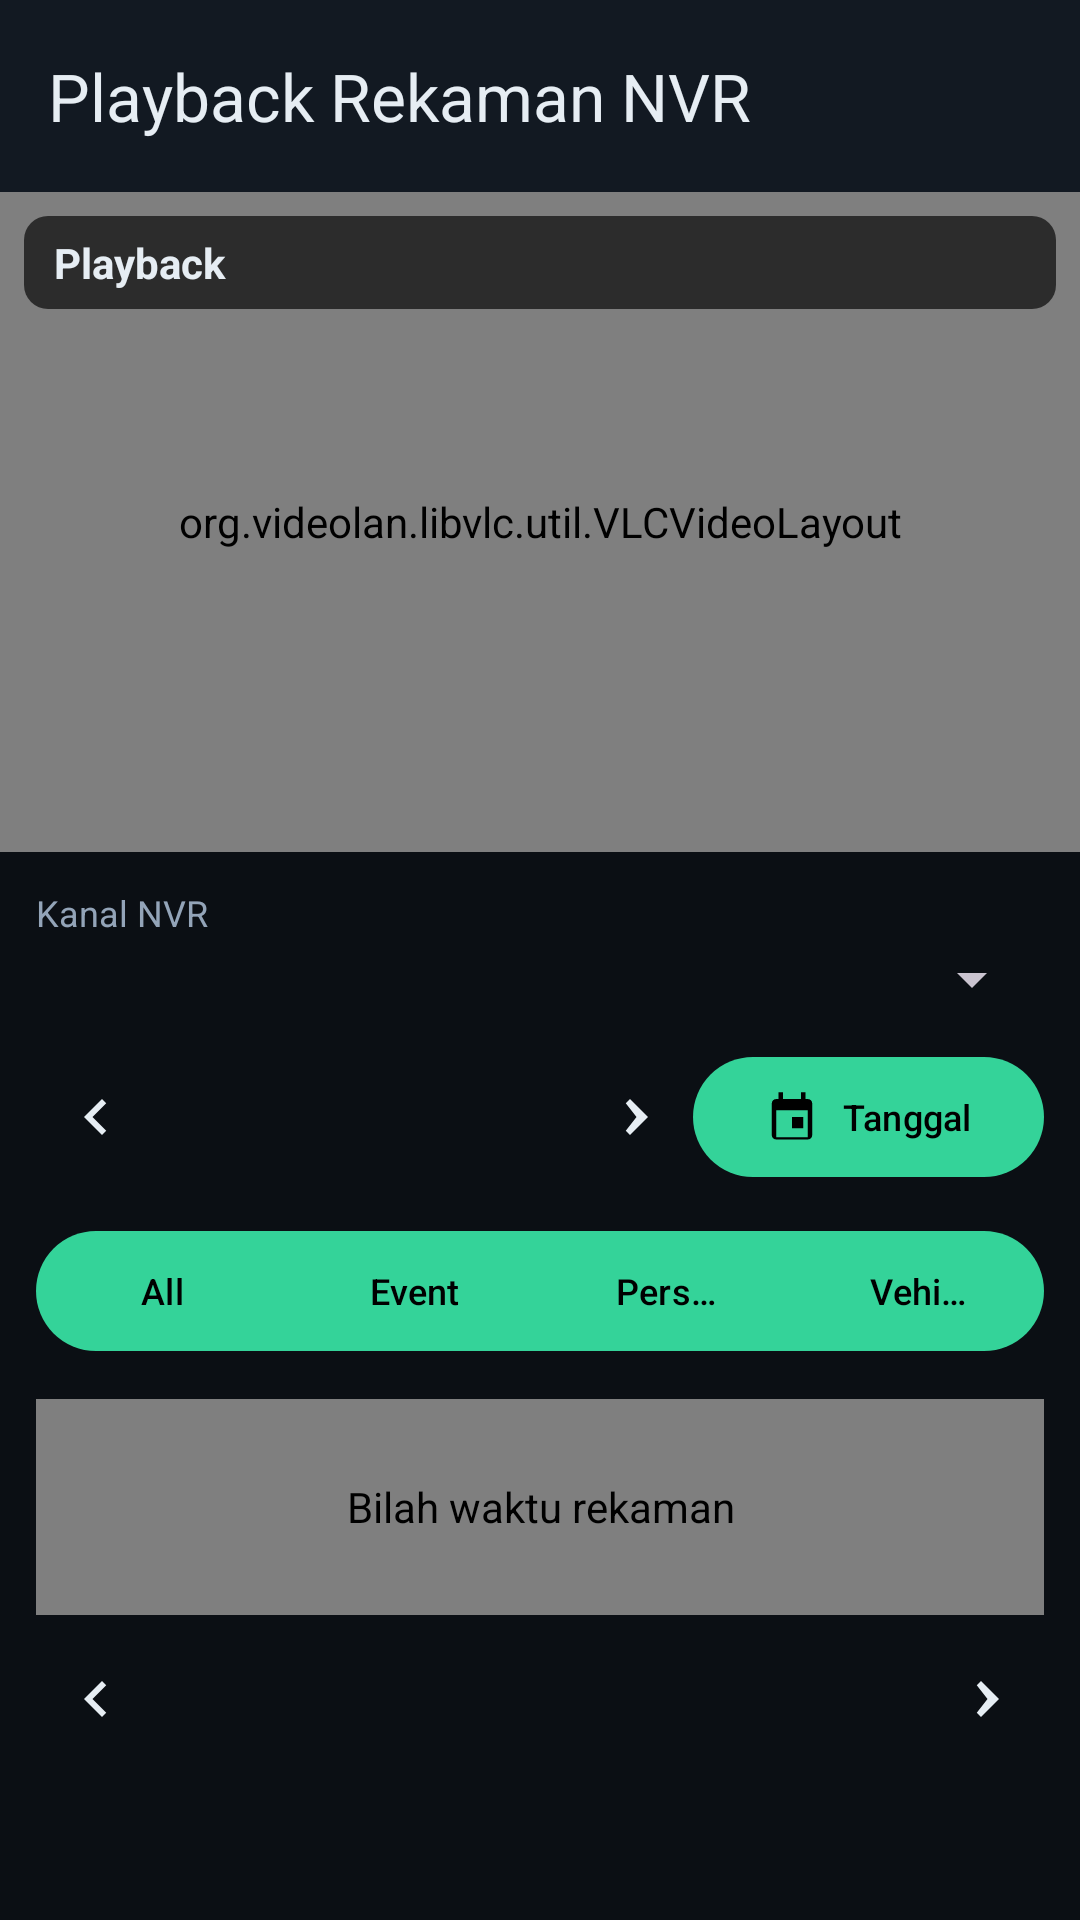

Named icons in this screenshot (1080x1920) and their centers, (x=x, y=y):
Hari berikutnya: (x=637, y=1117)
Hari sebelumnya: (x=95, y=1117)
Klip berikutnya: (x=988, y=1699)
Klip sebelumnya: (x=95, y=1699)
